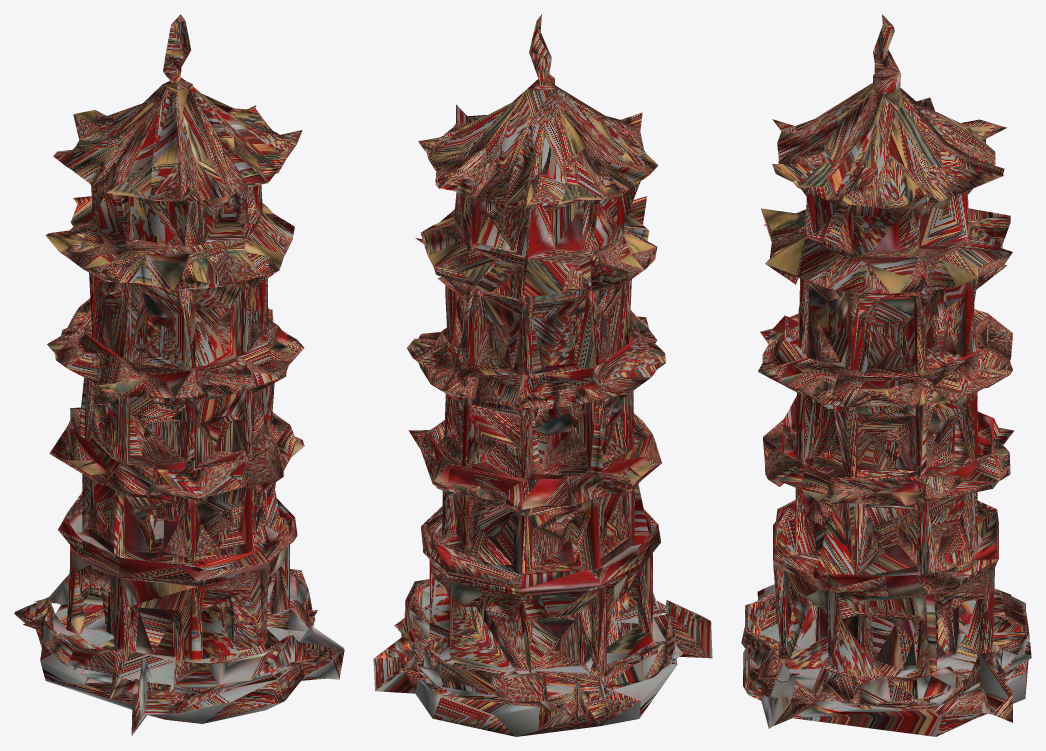
File: tower_nine.far.glb
3 views of the same model, side by side, from view 1: azimuth 30°, elevation 25°; view 2: azimuth 150°, elevation 25°; view 3: azimuth 270°, elevation 25° (orthographic). The views are drawn at different scales.
Size of the model in its own units: 0.7371 by 1.87 by 0.7383.
Materials: 1 (1 with a texture image).
